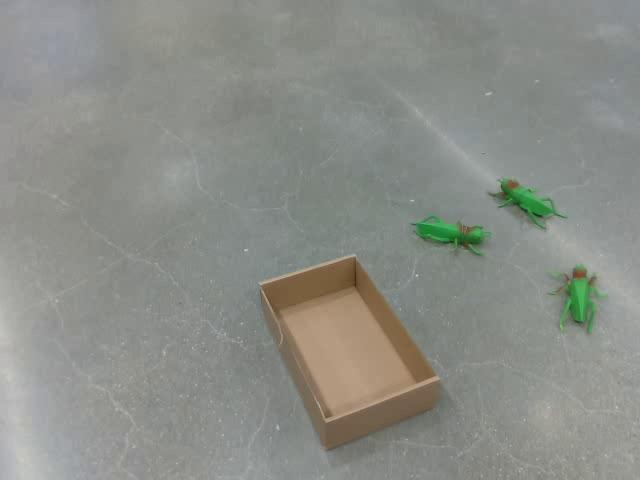box: (257, 253, 441, 450)
grasshopper: (547, 263, 608, 334), (488, 176, 568, 230), (409, 214, 492, 256)
